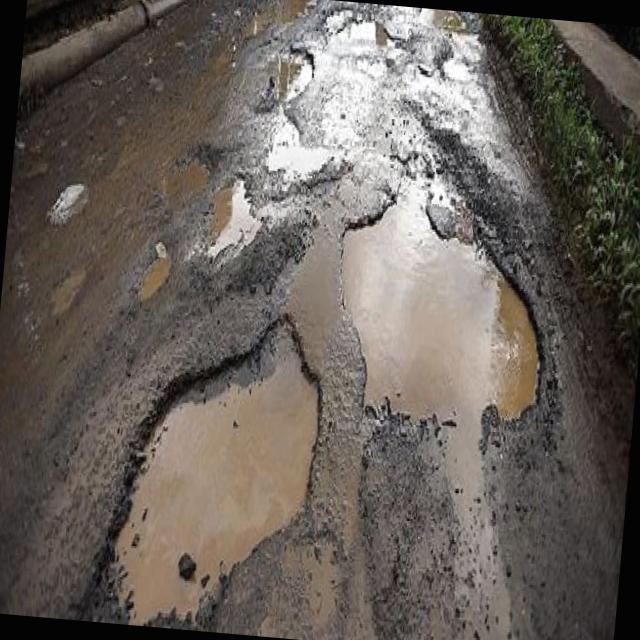Lubang: (113, 330, 316, 622), (343, 191, 538, 421), (209, 178, 260, 256), (271, 52, 312, 101), (141, 242, 171, 302), (337, 9, 387, 45), (165, 158, 209, 194), (443, 57, 471, 83)
